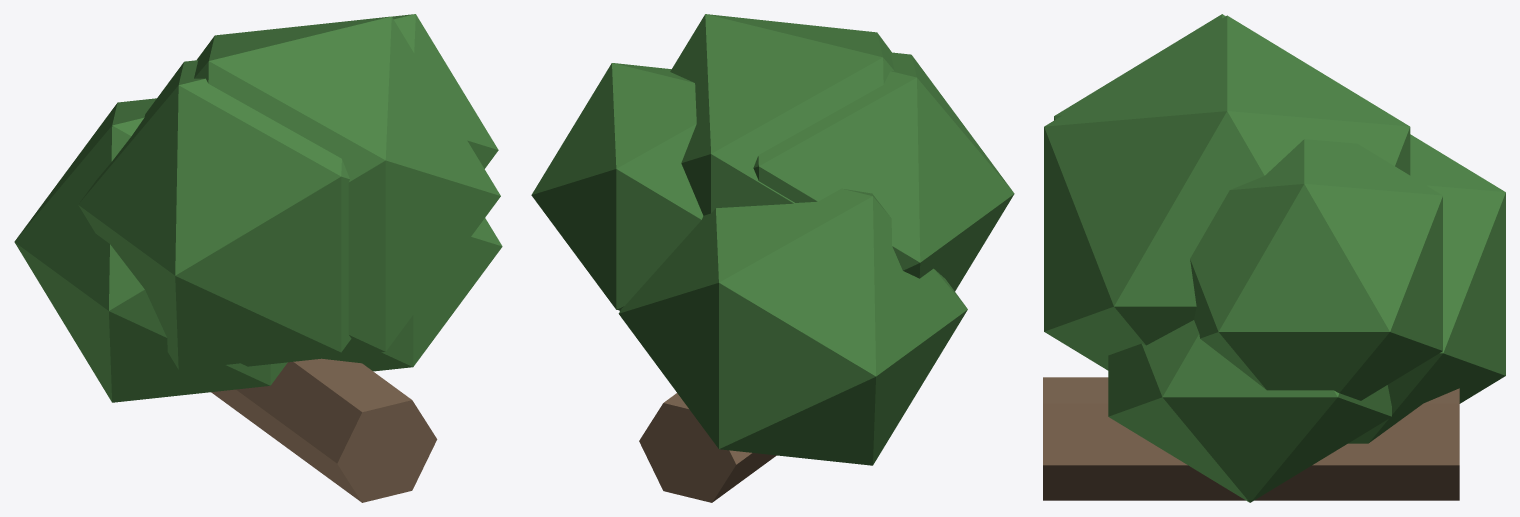
Rendered from tree_s12_12.glb.
3 renders of one model, left to right at view 1: azimuth 30°, elevation 25°; view 2: azimuth 150°, elevation 25°; view 3: azimuth 270°, elevation 25°, orthographic. The views are drawn at different scales.
Visible parts, largest first — view 1: geometry_0; view 2: geometry_0; view 3: geometry_0.
Part boxes in pixels (x1,y1,x2,y2): geometry_0: (14, 14, 502, 502); geometry_0: (531, 14, 1014, 502); geometry_0: (1043, 14, 1505, 502).
Size of the model in its own units: 3.13 by 3.12 by 3.08.
